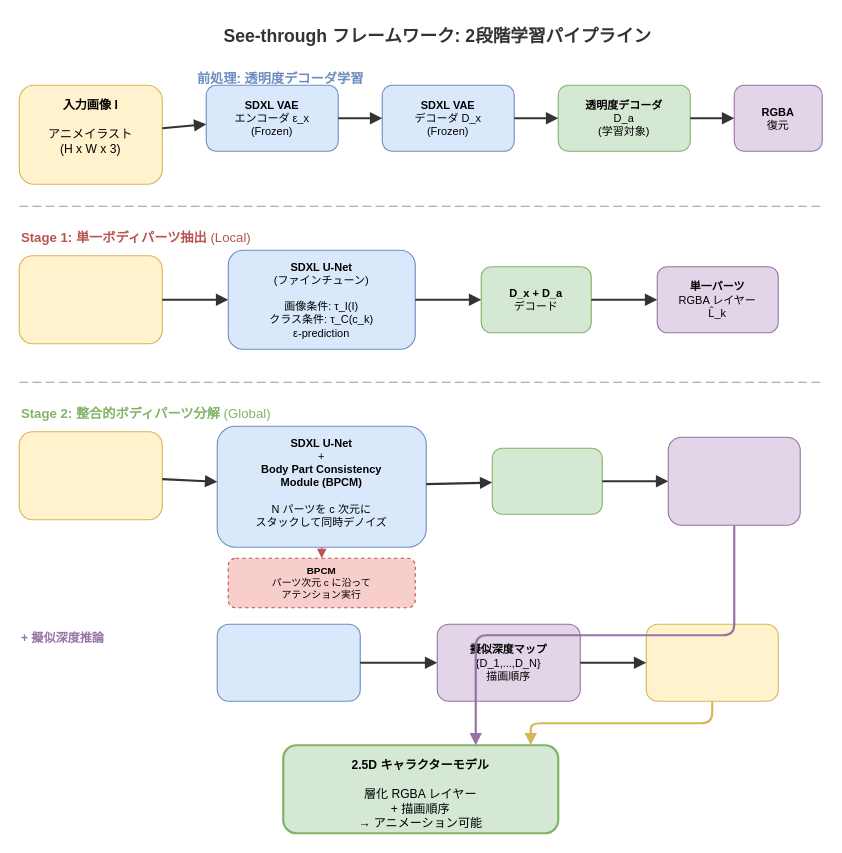
The diagram is 842 pixels wide and 853 high, and some of its shapes have lost their labels. Here are the shapes that lost their labels. From the top down, the centre of each, then its label:
point 90,299: 入力画像 I + クラスラベル c_k (例: "hair")
point 90,475: 入力画像 I + 全クラスラベル C = {c_1,...,c_N}
point 546,480: D_x + D_a 全パーツ デコード
point 733,480: 19パーツ全て 整合的 RGBA レイヤーセット {L̂_1,...,L̂_N}
point 288,662: Marigold (ファインチューン) + BPCM
point 711,662: K-Means (K=2) 前面/背面分割
